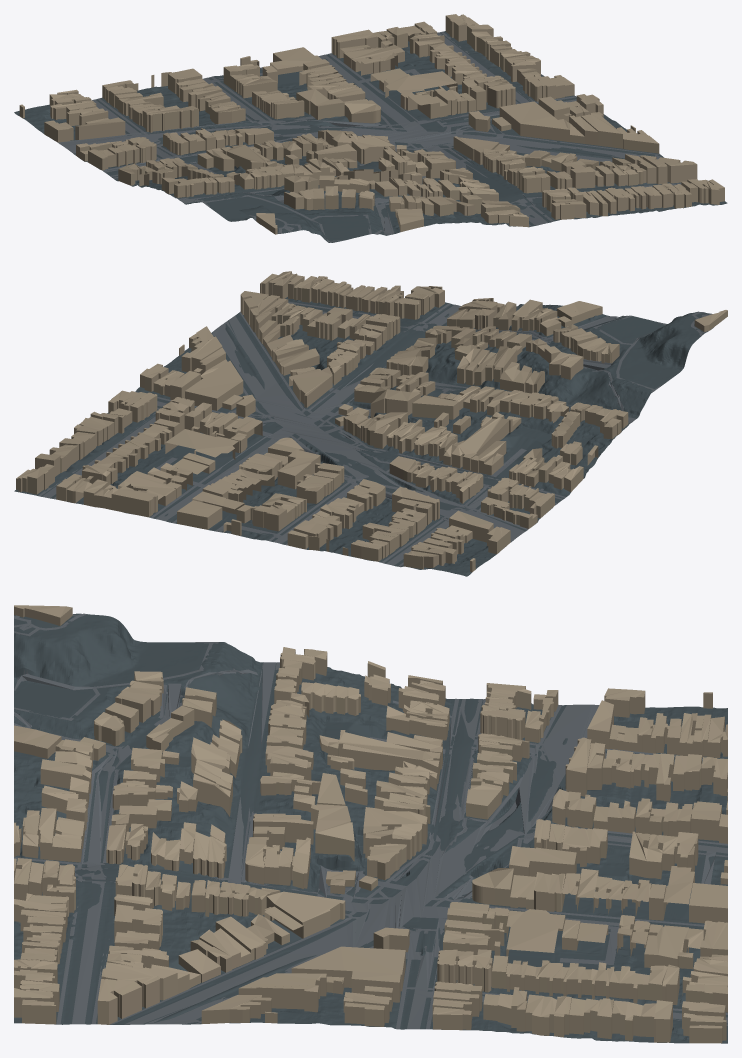
Rendered from epsg26910-1431-10884.lod0.glb.
3 renders of one model, top to bottom at view 1: azimuth 30°, elevation 25°; view 2: azimuth 150°, elevation 25°; view 3: azimuth 270°, elevation 25°, orthographic. The views are drawn at different scales.
Parts seen in each view (by area): view 1: epsg26910-1431-10884-lod0; view 2: epsg26910-1431-10884-lod0; view 3: epsg26910-1431-10884-lod0.
Part boxes in pixels (x1,y1,x2,y2): epsg26910-1431-10884-lod0: (14,14,727,242); epsg26910-1431-10884-lod0: (14,271,727,576); epsg26910-1431-10884-lod0: (14,605,727,1043).
Size of the model in its own units: 384 by 81.28 by 384.
